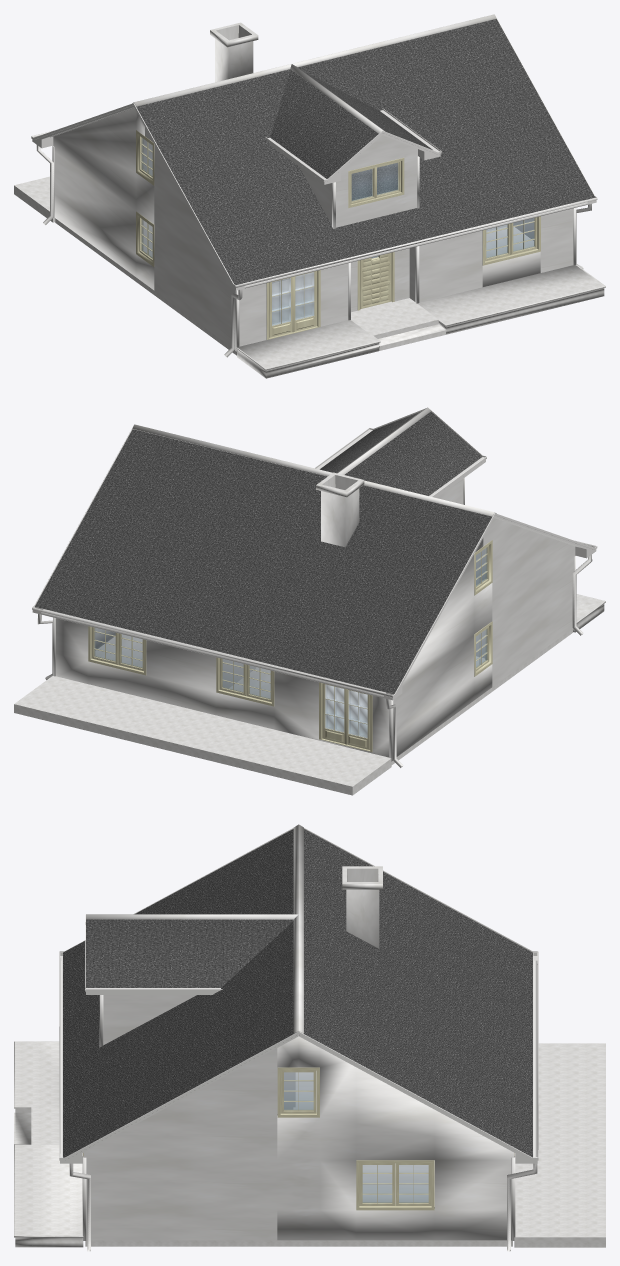
3 views of the same model, one above another, from view 1: azimuth 30°, elevation 25°; view 2: azimuth 150°, elevation 25°; view 3: azimuth 270°, elevation 25° (orthographic). The views are drawn at different scales.
Parts seen in each view (by area): view 1: Free_House_OBJ; view 2: Free_House_OBJ; view 3: Free_House_OBJ.
Part boxes in pixels (left/top/right/bottom): Free_House_OBJ: left=14, top=14, right=605, bottom=378; Free_House_OBJ: left=14, top=407, right=605, bottom=795; Free_House_OBJ: left=14, top=824, right=605, bottom=1251.
Size of the model in its own units: 8.85 by 4.89 by 10.7.
4 materials, 4 textured.
